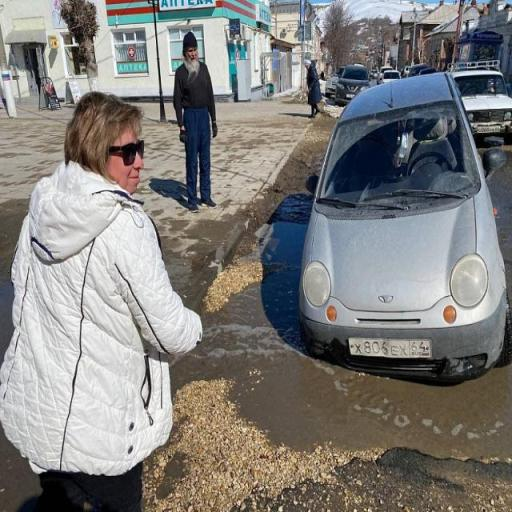person: (9, 91, 204, 512), (176, 33, 218, 212), (304, 59, 324, 122)
